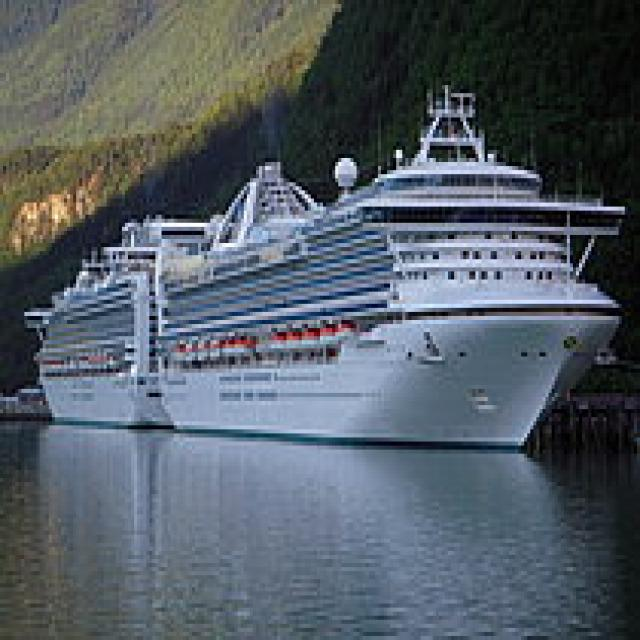Cruise: (149, 73, 625, 450), (15, 73, 162, 425)
